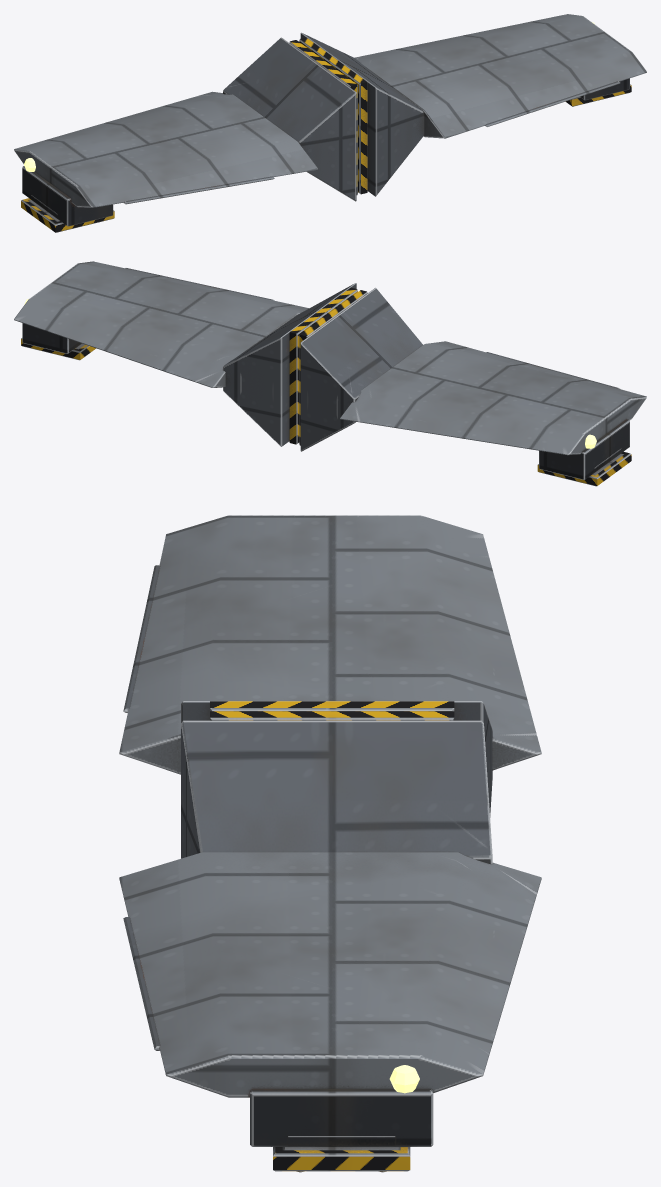
Rendered from ala_corta_t1.fbx.
3 renders of one model, top to bottom at view 1: azimuth 30°, elevation 25°; view 2: azimuth 150°, elevation 25°; view 3: azimuth 270°, elevation 25°, orthographic. The views are drawn at different scales.
Parts seen in each view (by area): view 1: ala_corta_t1_izq, ala_corta_t1_der; view 2: ala_corta_t1_izq, ala_corta_t1_der; view 3: ala_corta_t1_der, ala_corta_t1_izq.
Boxes of the visible parts, x1,y1,x2,y2 form: ala_corta_t1_izq: (14, 37, 357, 232); ala_corta_t1_der: (299, 14, 646, 196); ala_corta_t1_izq: (299, 287, 646, 486); ala_corta_t1_der: (14, 261, 357, 446); ala_corta_t1_der: (119, 711, 541, 1172); ala_corta_t1_izq: (119, 515, 541, 817).
Size of the model in its own units: 8.71 by 1.6 by 2.76.
